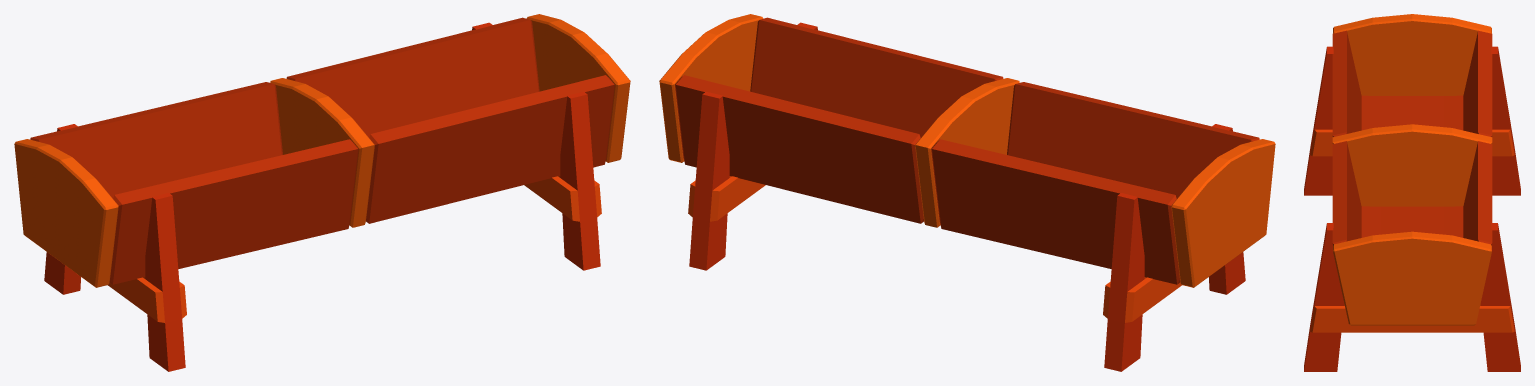
Rendered from winter_castle_item11.glb.
3 renders of one model, left to right at view 1: azimuth 30°, elevation 25°; view 2: azimuth 150°, elevation 25°; view 3: azimuth 270°, elevation 25°, orthographic. The views are drawn at different scales.
Visible parts, largest first — view 1: Item11_Medieval_0; view 2: Item11_Medieval_0; view 3: Item11_Medieval_0.
Part boxes in pixels (x1,y1,x2,y2): Item11_Medieval_0: (14,14,630,371); Item11_Medieval_0: (659,14,1275,371); Item11_Medieval_0: (1304,14,1520,371).
Bounding box in the file's own units: 1.5 × 0.4842 × 0.6142.
Materials: 1 (1 with a texture image).
